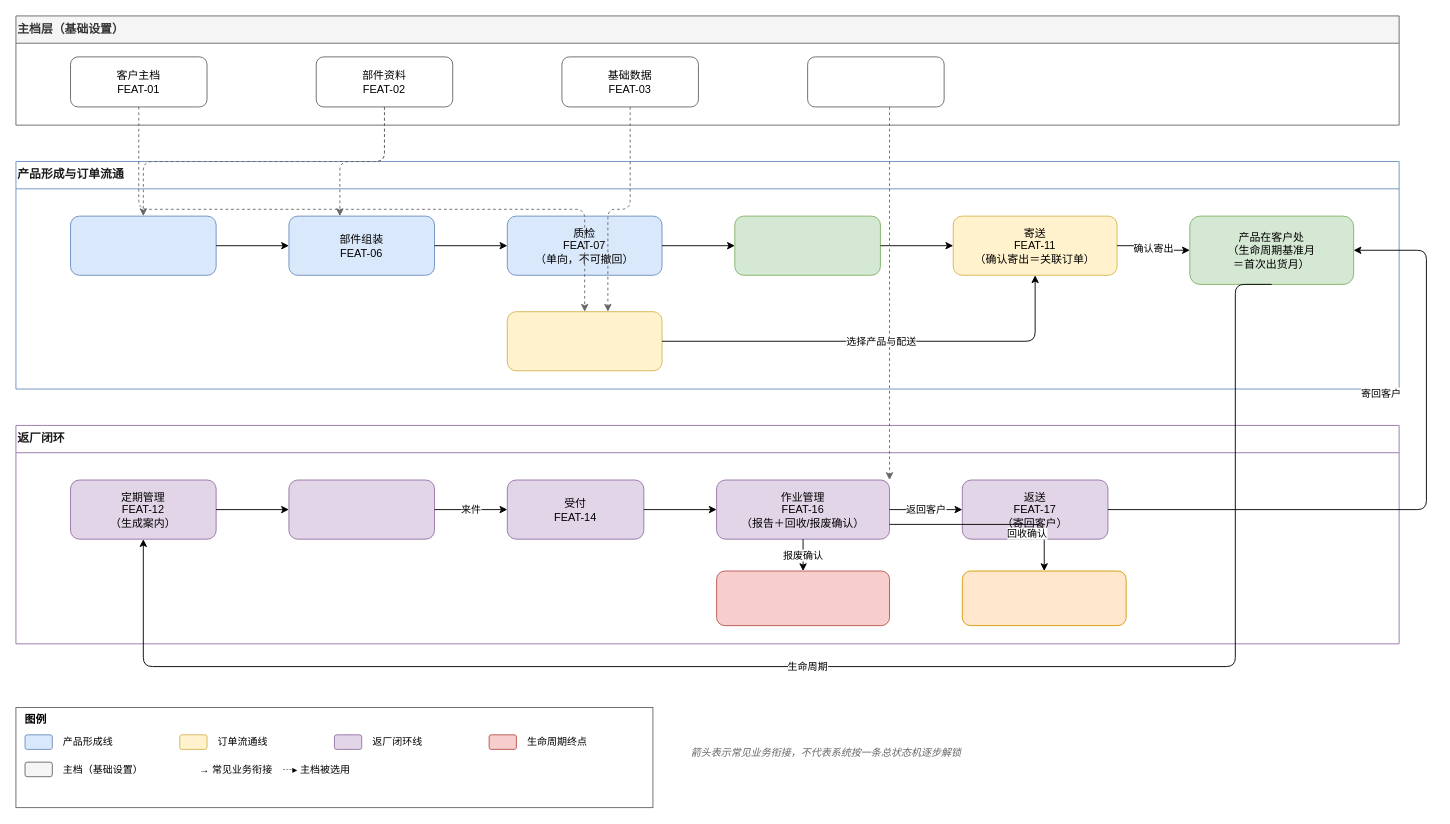
Some shapes in this 1450 by 824 pixel diagram are drawn without their labels. Each missing label, with the centre of its shape:
"作业选项 FEAT-04" belongs at pixel 875 81.
"报废 （生命周期终点， 不可逆）" belongs at pixel 803 598.
"正式产品 （获得出货资格）" belongs at pixel 807 245.
"确认回收 （结束当前订单关系）" belongs at pixel 1043 598.
"衣体入库 FEAT-05 （产品成立）" belongs at pixel 143 245.
"订单 FEAT-10 （客户需求）" belongs at pixel 584 341.
"通知管理 FEAT-13 （超期跟踪）" belongs at pixel 361 509.
